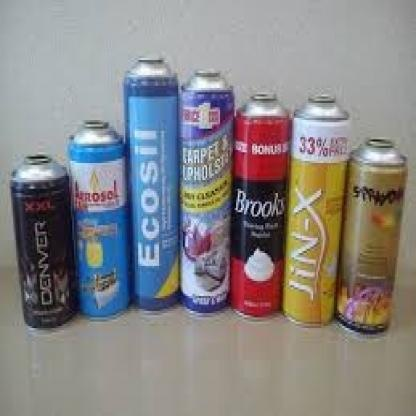trash: (283, 95, 349, 325), (124, 59, 178, 309), (337, 139, 406, 331), (180, 72, 233, 311), (231, 94, 288, 315), (68, 121, 128, 316), (11, 155, 72, 326)
